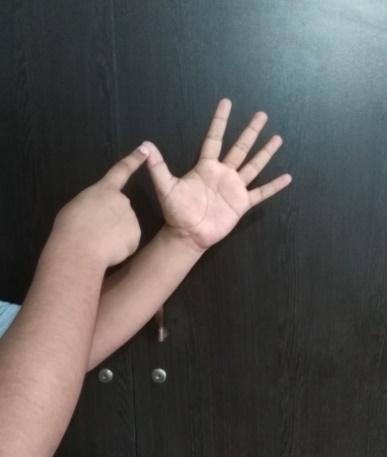a: (82, 96, 295, 248)
